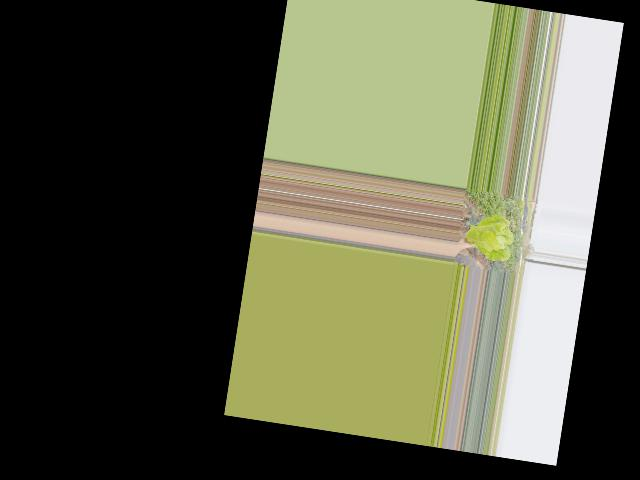lettuce: (458, 208, 517, 265)
